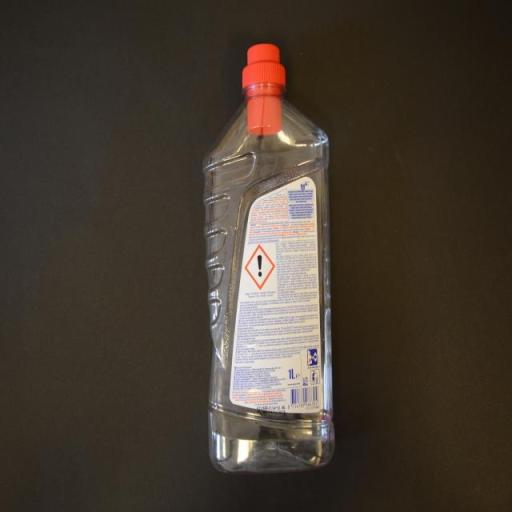plastic: (201, 42, 335, 481)
